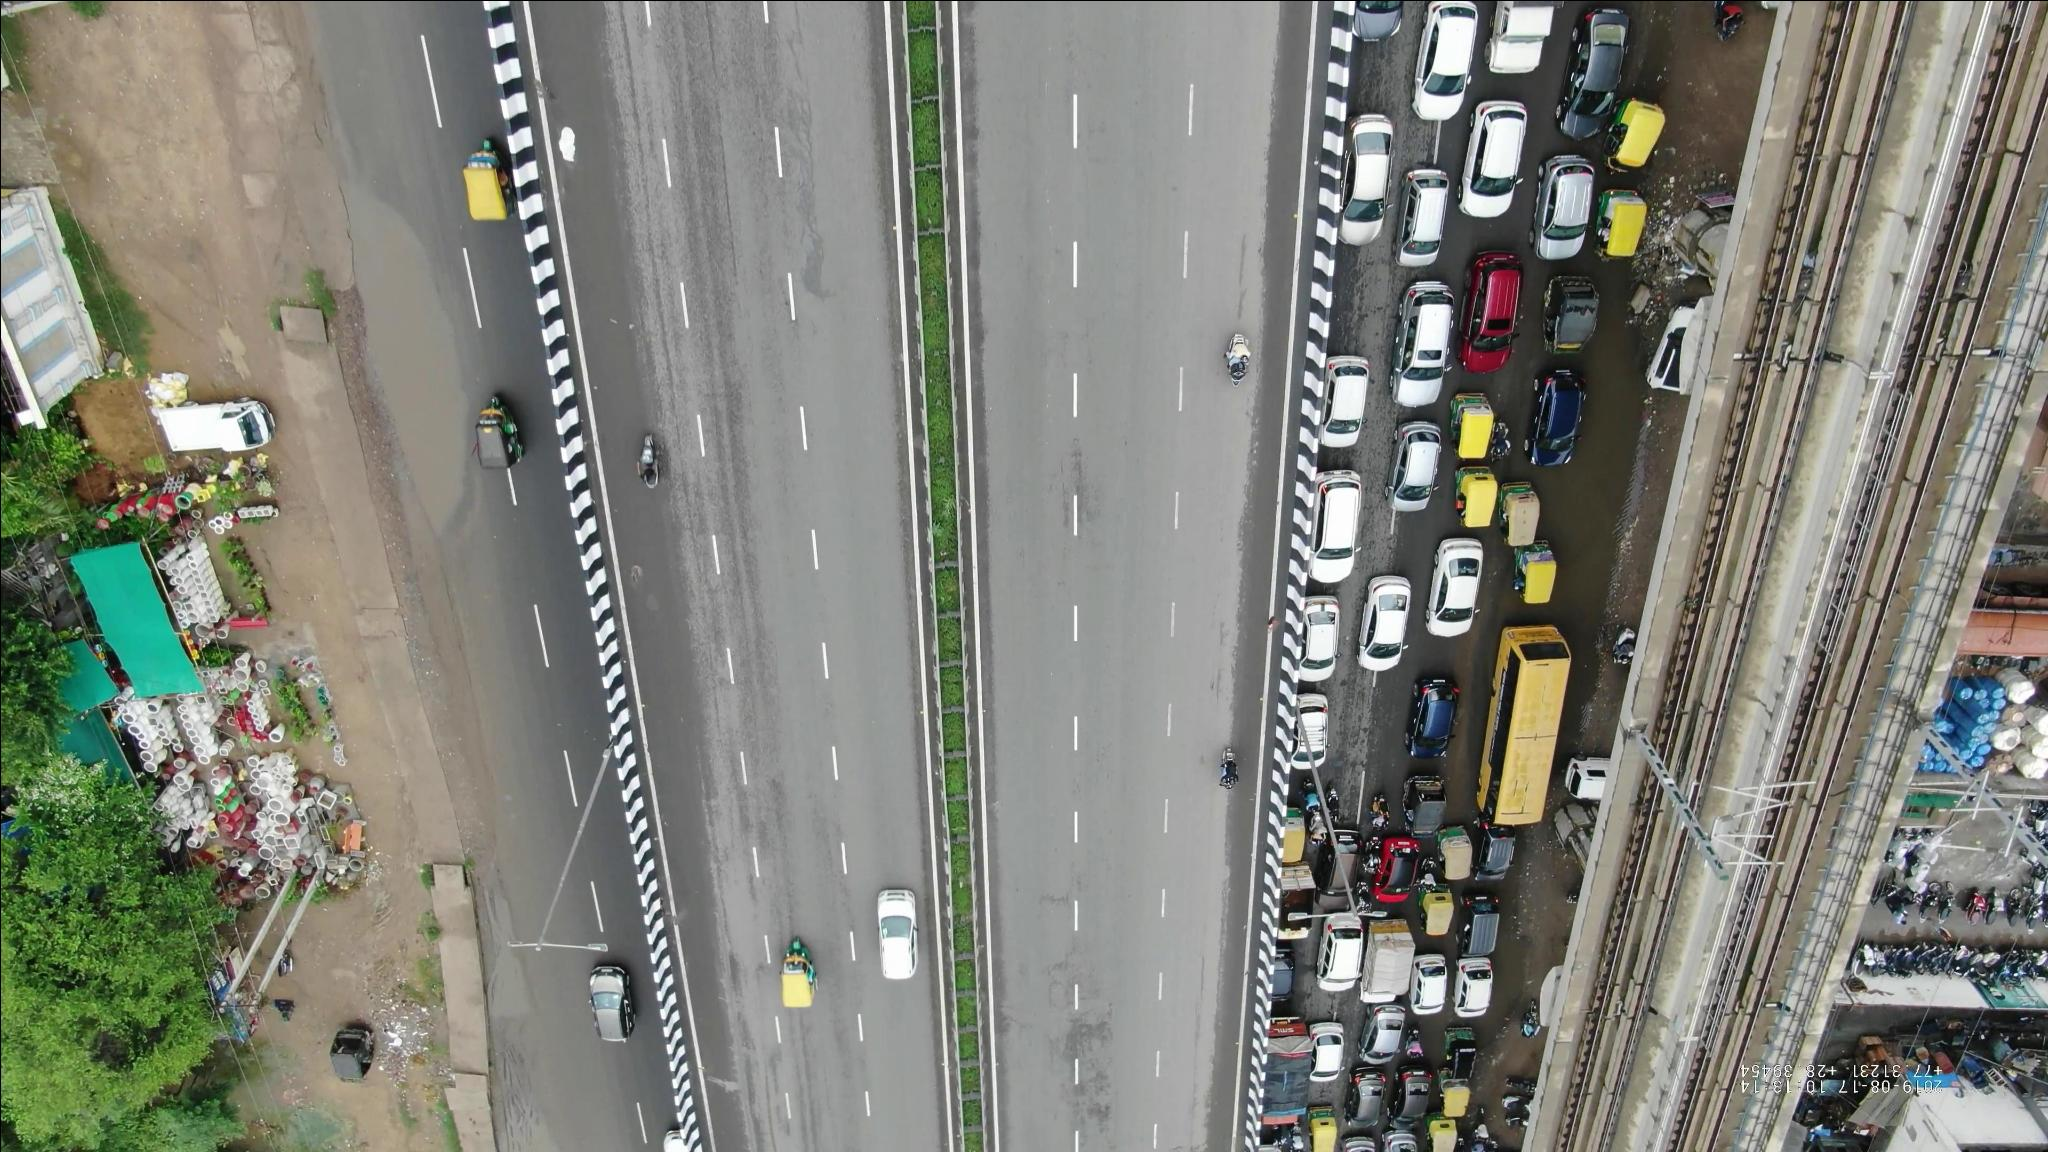Cracks: (731, 8, 836, 301), (1018, 893, 1127, 1092)
Waterlogging: (342, 198, 478, 523)
